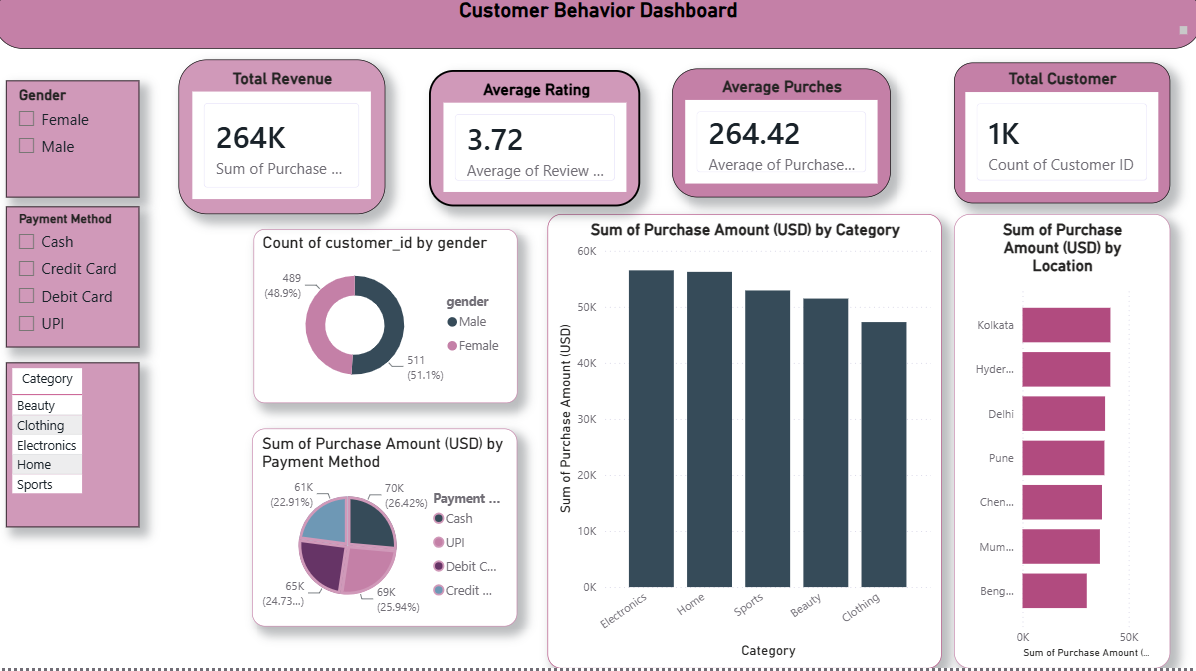

The dashboard page shown, as its layout file describes it:
{"tool":"powerbi","page":{"name":"Page 1","canvas":[1280,720],"ordinal":0},"visuals":[{"type":"textbox","title":"Customer Behavior Dashboard","box":[0,0,1280.4,63.6],"z":0},{"type":"slicer","fields":{"Values":["public customer_shopping.gender"]},"box":[12.7,97,141.6,124.1],"z":1000},{"type":"donutChart","fields":{"Category":["public customer_shopping.gender"],"Y":["CountNonNull(public customer_shopping.customer_id)"]},"box":[275.2,254.5,279.9,184.5],"z":2000},{"type":"clusteredColumnChart","fields":{"Category":["Sheet1.Category"],"Y":["Sum(Sheet1.Purchase Amount (USD))"]},"box":[586.9,238.6,418.3,482],"z":3000},{"type":"cardVisual","title":"Total Revenue ","fields":{"Data":["Sum(Sheet1.Purchase Amount (USD))"]},"box":[195.6,74.8,219.5,163.8],"z":4000},{"type":"cardVisual","title":"Average Rating","fields":{"Data":["Avg(Sheet1.Review Rating)"]},"box":[461.3,85.9,224.3,144.7],"z":5000},{"type":"cardVisual","title":"Average Purches","fields":{"Data":["Avg(Sheet1.Purchase Amount (USD))"]},"box":[719,84.3,232.2,136.8],"z":6000},{"type":"cardVisual","title":"Total Customer","fields":{"Data":["CountNonNull(Sheet1.Customer ID)"]},"box":[1018,77.9,229,149.5],"z":7000},{"type":"slicer","fields":{"Values":["Sheet1.Payment Method"]},"box":[12.7,230.6,141.6,149.5],"z":8000},{"type":"tableEx","fields":{"Values":["Sheet1.Category"]},"box":[12.7,396.1,141.6,175],"z":9000},{"type":"pieChart","fields":{"Category":["Sheet1.Payment Method"],"Y":["Sum(Sheet1.Purchase Amount (USD))"]},"box":[273.6,466,281.5,210],"z":10000},{"type":"clusteredBarChart","fields":{"Category":["Sheet1.Location"],"Y":["Sum(Sheet1.Purchase Amount (USD))"]},"box":[1018,238.6,229,482],"z":11000}]}

Visuals, with their boxes in screenshot pixels (x1, y1, x2, y2), scaled from the page's 1280x720 canvas onto the 1196x671 screenshot:
"Customer Behavior Dashboard" textbox: bbox=(0, 0, 1195, 59)
slicer - public customer_shopping.gender: bbox=(12, 90, 144, 206)
donutChart - public customer_shopping.gender x CountNonNull(public customer_shopping.customer_id): bbox=(257, 237, 519, 409)
clusteredColumnChart - Sheet1.Category x Sum(Sheet1.Purchase Amount (USD)): bbox=(548, 222, 939, 670)
"Total Revenue " cardVisual: bbox=(183, 70, 388, 222)
"Average Rating" cardVisual: bbox=(431, 80, 641, 215)
"Average Purches" cardVisual: bbox=(672, 79, 889, 206)
"Total Customer" cardVisual: bbox=(951, 73, 1165, 212)
slicer - Sheet1.Payment Method: bbox=(12, 215, 144, 354)
tableEx - Sheet1.Category: bbox=(12, 369, 144, 532)
pieChart - Sheet1.Payment Method x Sum(Sheet1.Purchase Amount (USD)): bbox=(256, 434, 519, 630)
clusteredBarChart - Sheet1.Location x Sum(Sheet1.Purchase Amount (USD)): bbox=(951, 222, 1165, 670)
